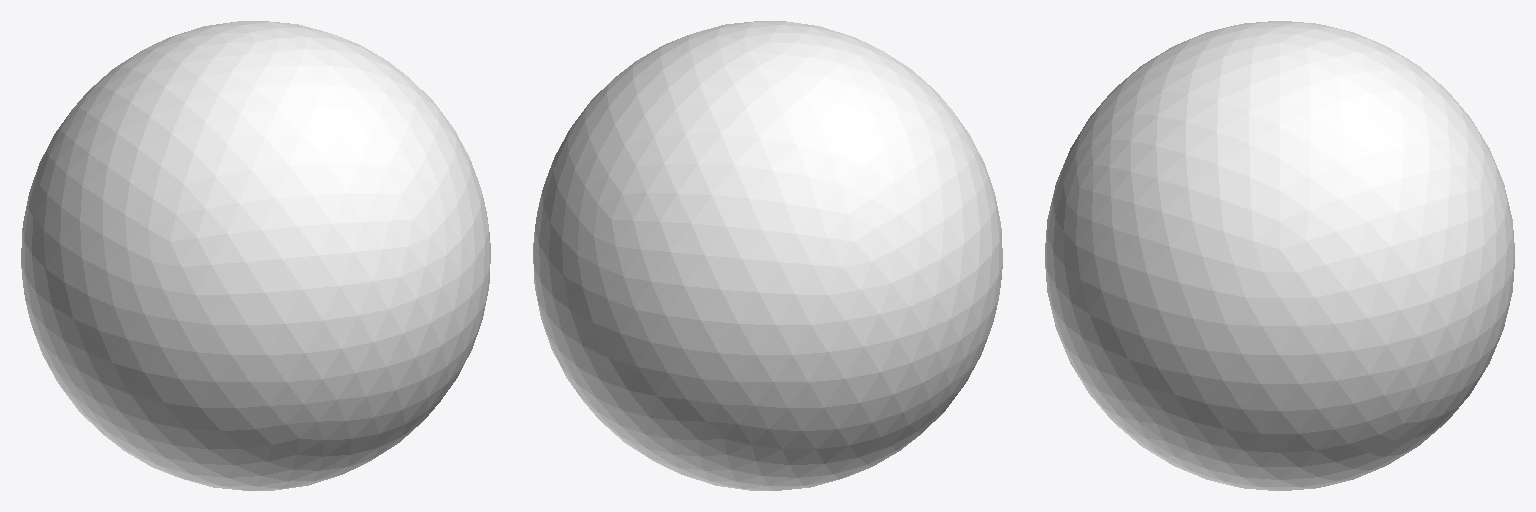
Rendered from ball.obj.
3 views of the same model, side by side, from view 1: azimuth 30°, elevation 25°; view 2: azimuth 150°, elevation 25°; view 3: azimuth 270°, elevation 25° (orthographic).
Parts seen in each view (by area): view 1: Icosphere_Icosphere.002; view 2: Icosphere_Icosphere.002; view 3: Icosphere_Icosphere.002.
Boxes of the visible parts, x1=… form: Icosphere_Icosphere.002: x1=21, y1=21, x2=490, y2=490; Icosphere_Icosphere.002: x1=533, y1=21, x2=1002, y2=490; Icosphere_Icosphere.002: x1=1045, y1=21, x2=1514, y2=490.
Size of the model in its own units: 2 by 2 by 2.